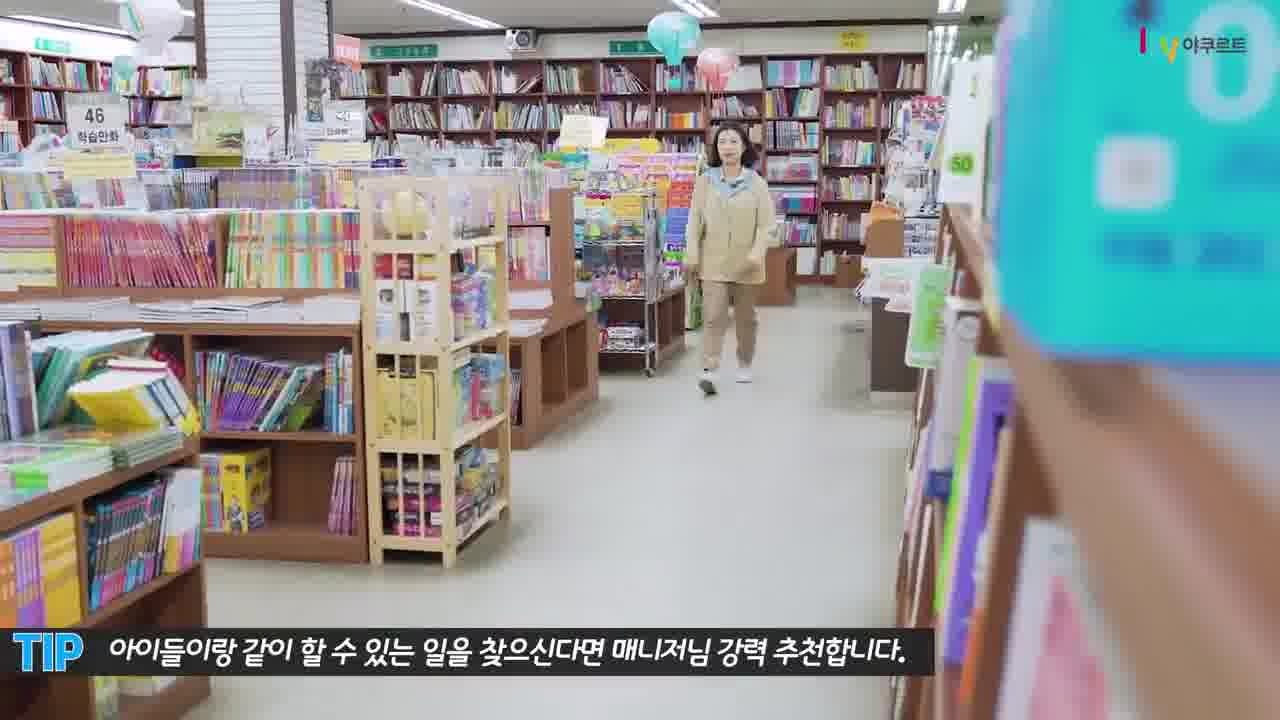Yakurut: (678, 120, 791, 408)
